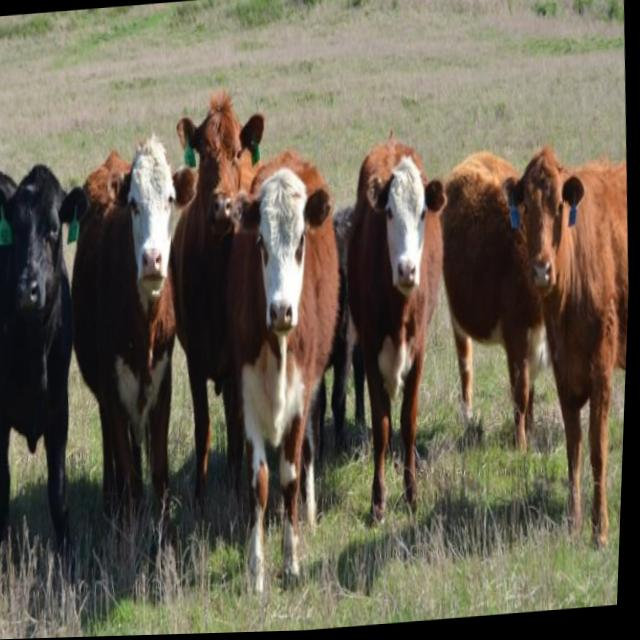cowFace: (231, 161, 341, 343), (0, 148, 96, 330), (496, 145, 598, 314), (108, 136, 205, 300), (359, 157, 455, 308), (172, 101, 273, 243)
